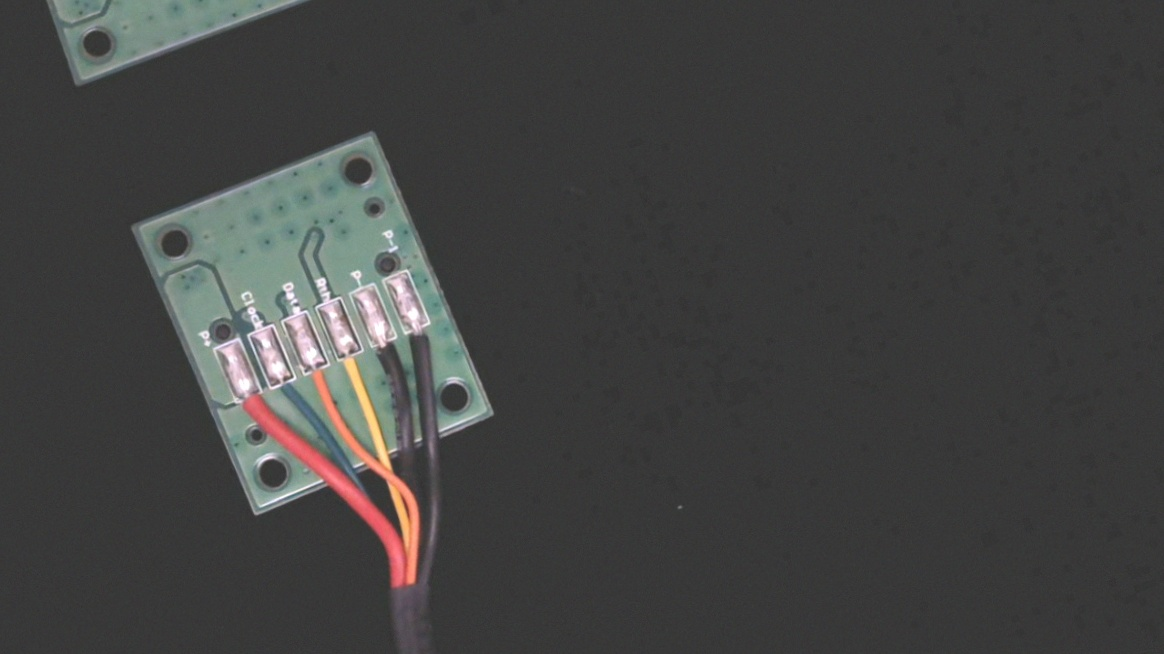Black: (363, 323, 413, 393)
Black1: (398, 307, 449, 377)
Green: (261, 362, 310, 428)
Orange: (297, 349, 342, 410)
Red: (229, 377, 276, 441)
Yellow: (330, 335, 377, 402)
